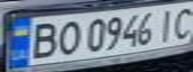0: (84, 16, 106, 52)
4: (121, 11, 145, 47)
6: (136, 9, 160, 46)
9: (103, 13, 124, 51)
B: (21, 19, 63, 60)
C: (169, 3, 193, 39)
I: (154, 6, 181, 42)
O: (51, 18, 84, 56)
